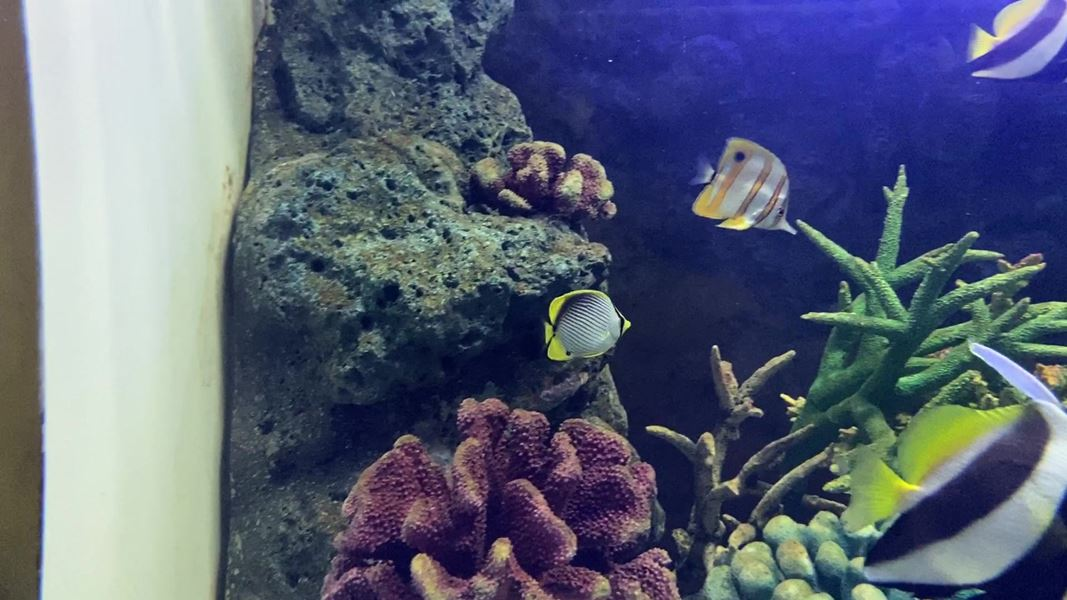Black-backed butterflyfish: (532, 282, 641, 368)
